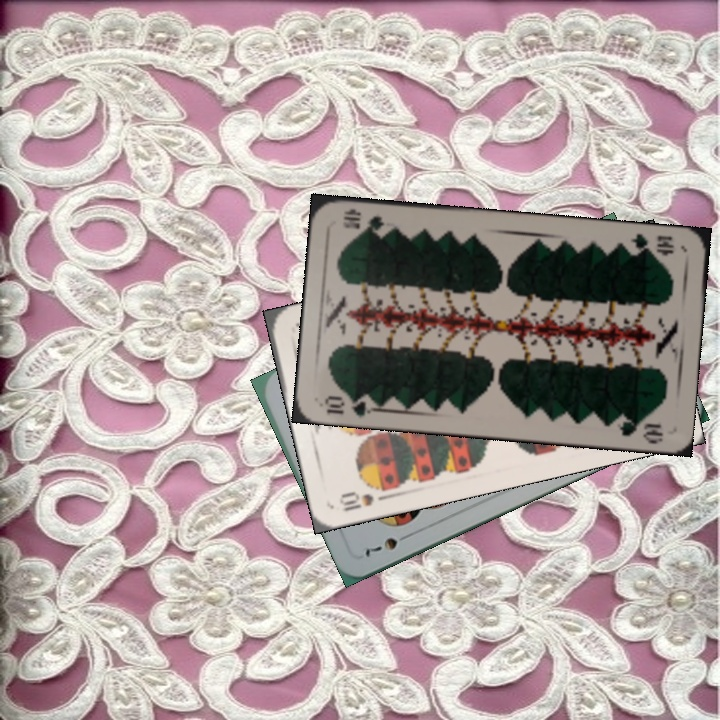G10: (321, 391, 378, 419), (627, 229, 677, 258)
S10: (335, 482, 393, 514)
S7: (358, 529, 414, 560)
